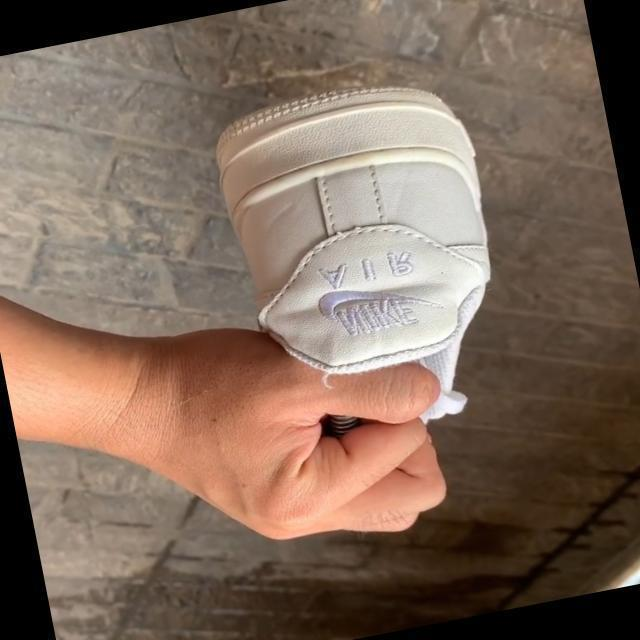nike fake air force: (204, 56, 532, 444)
